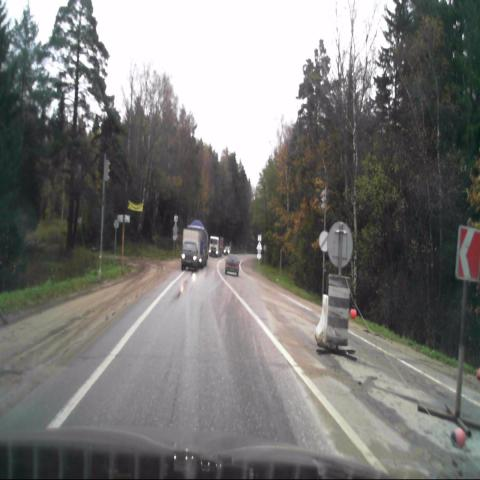3_31: (318, 229, 330, 253)
